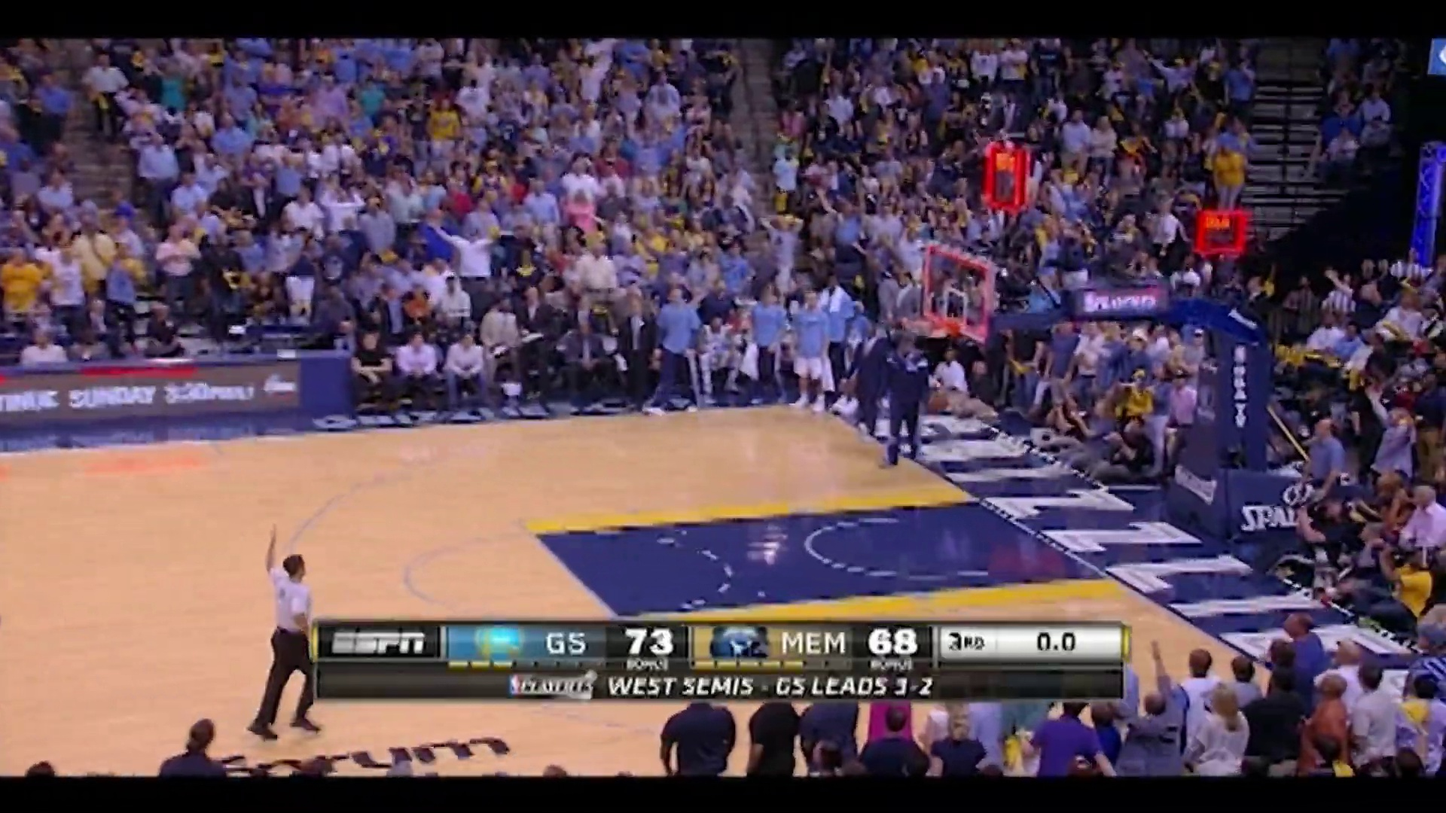basket_hoop: (896, 230, 1009, 366)
